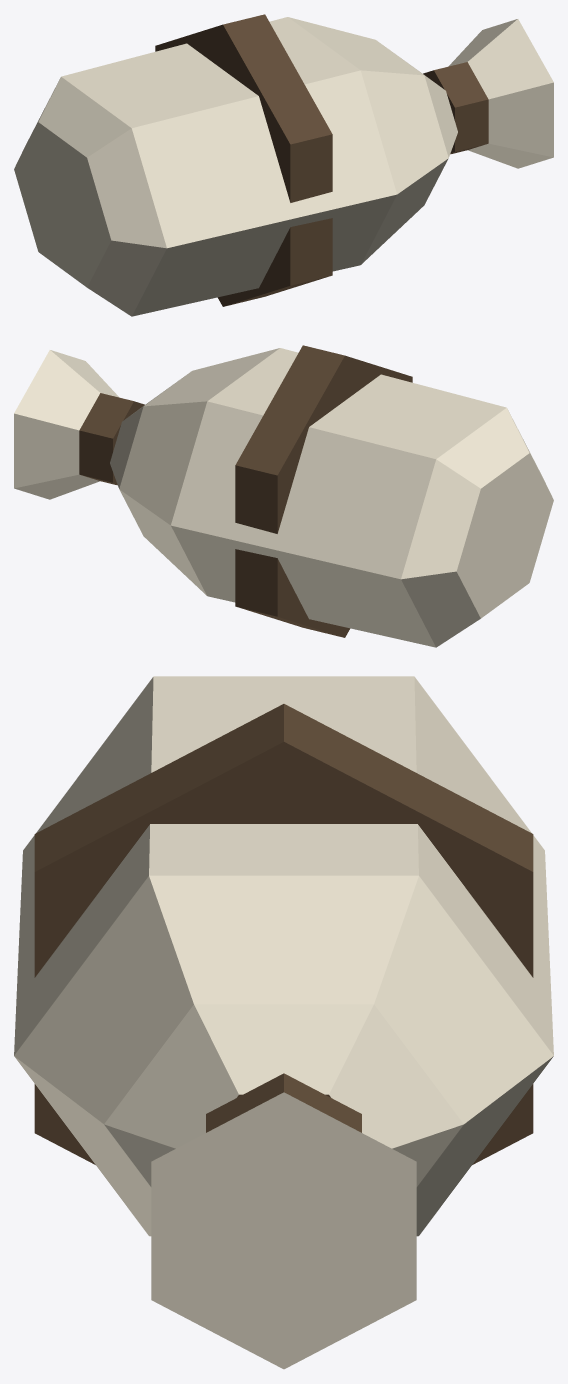
Rendered from villager-cargo-flour.glb.
3 renders of one model, top to bottom at view 1: azimuth 30°, elevation 25°; view 2: azimuth 150°, elevation 25°; view 3: azimuth 270°, elevation 25°, orthographic. The views are drawn at different scales.
Parts seen in each view (by area): view 1: villager-cargo-flour; view 2: villager-cargo-flour; view 3: villager-cargo-flour.
Boxes of the visible parts, box(x1,y1,x2,y2) form: villager-cargo-flour: box(14, 14, 553, 316); villager-cargo-flour: box(14, 345, 553, 647); villager-cargo-flour: box(14, 676, 553, 1369).
Bounding box in the file's own units: 1.08 × 0.64 × 0.6.
Materials: 1 (1 with a texture image).
